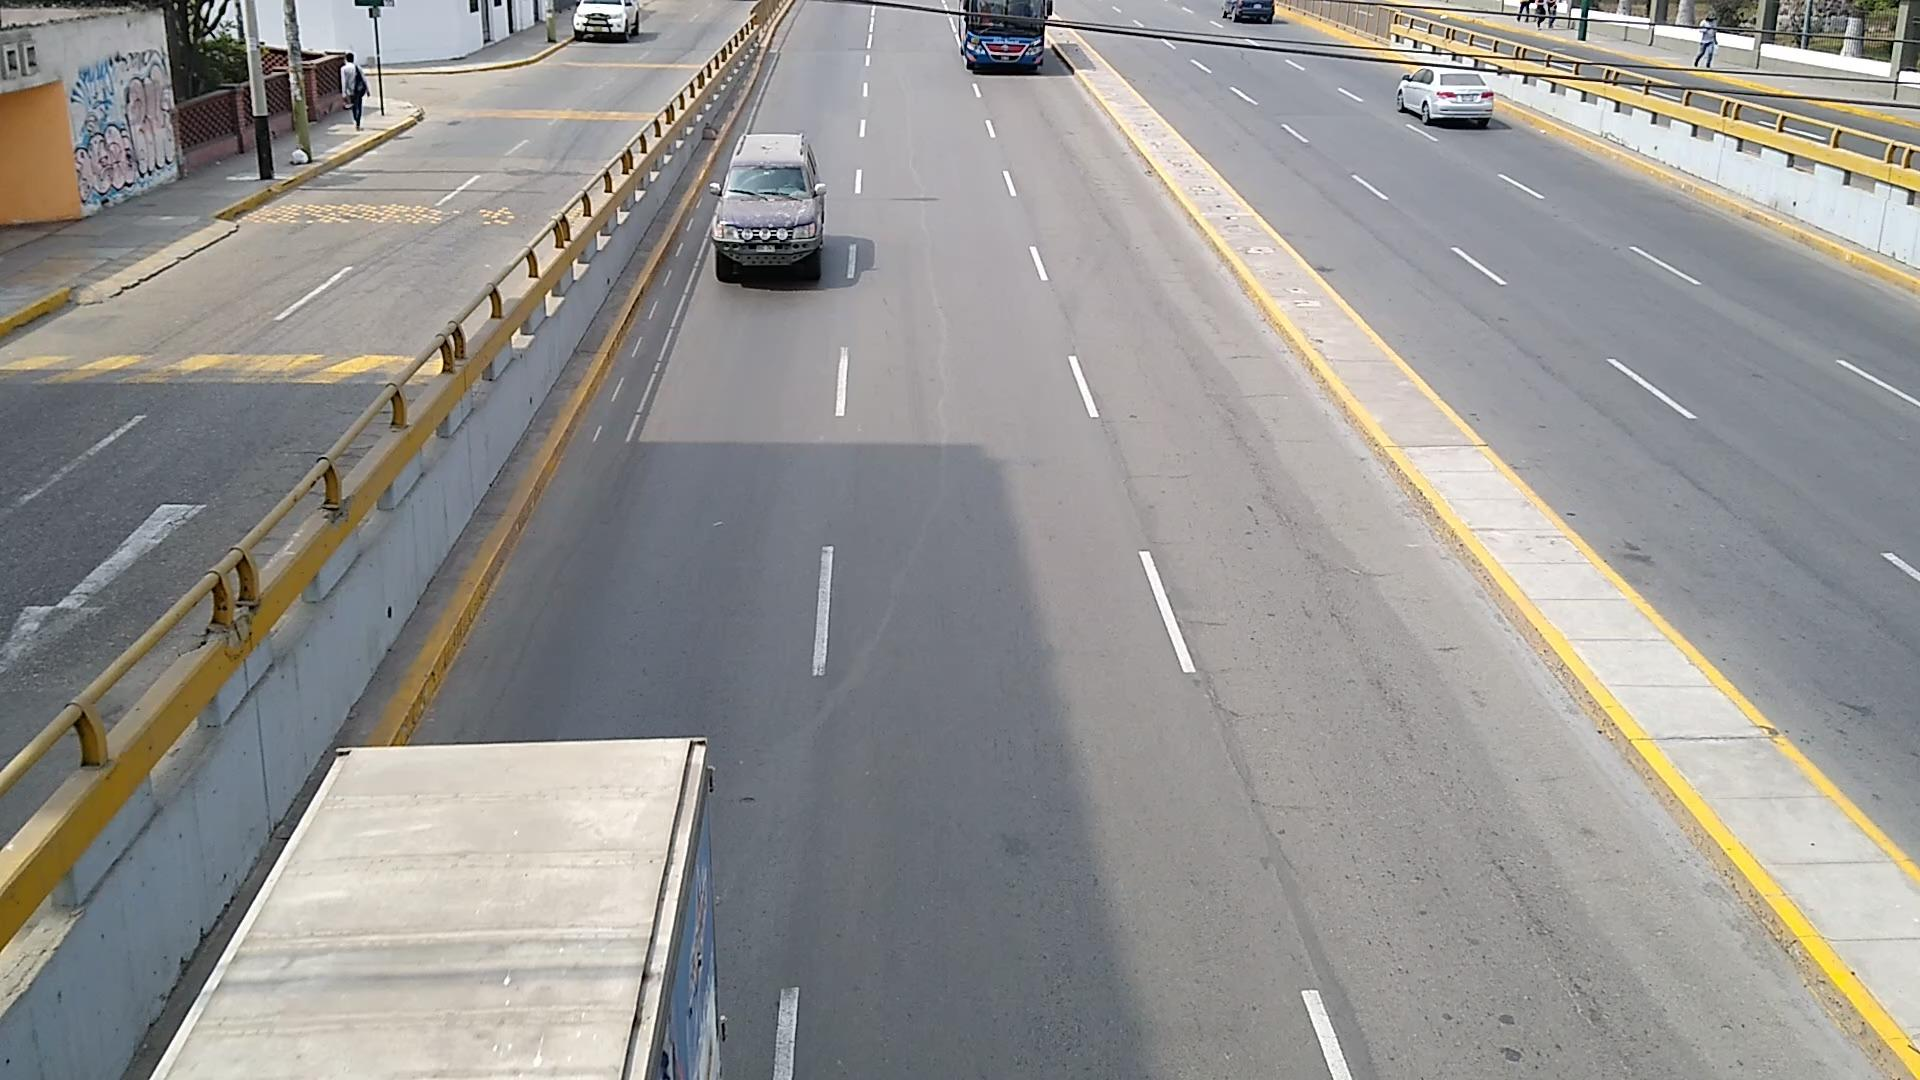bus: (960, 0, 1050, 71)
car: (709, 135, 825, 281), (1395, 68, 1492, 128), (574, 0, 641, 41)
